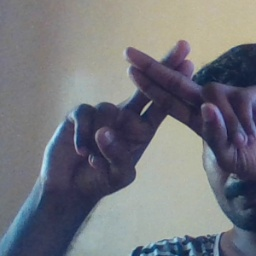F: (83, 33, 249, 167)
